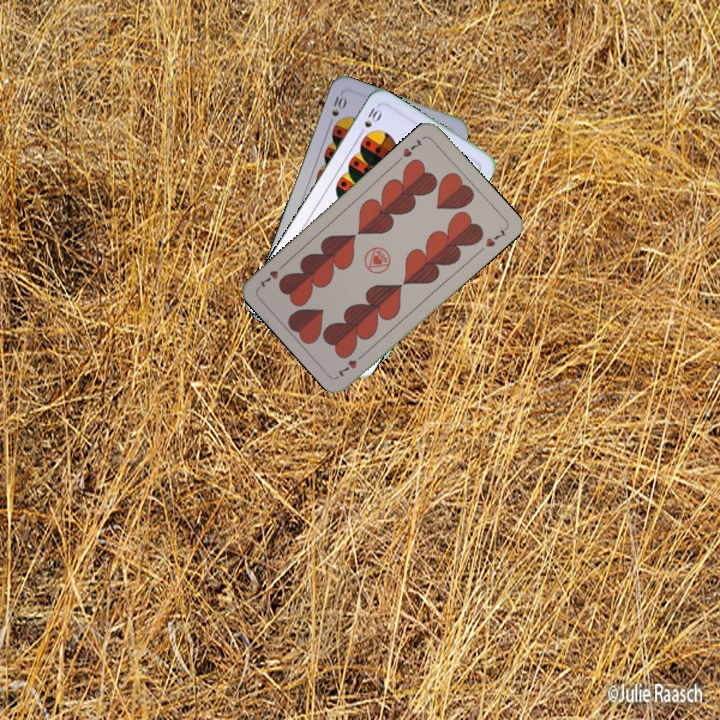H7: (333, 349, 368, 380), (399, 135, 425, 160)
S10: (355, 102, 384, 139), (324, 92, 349, 129)
